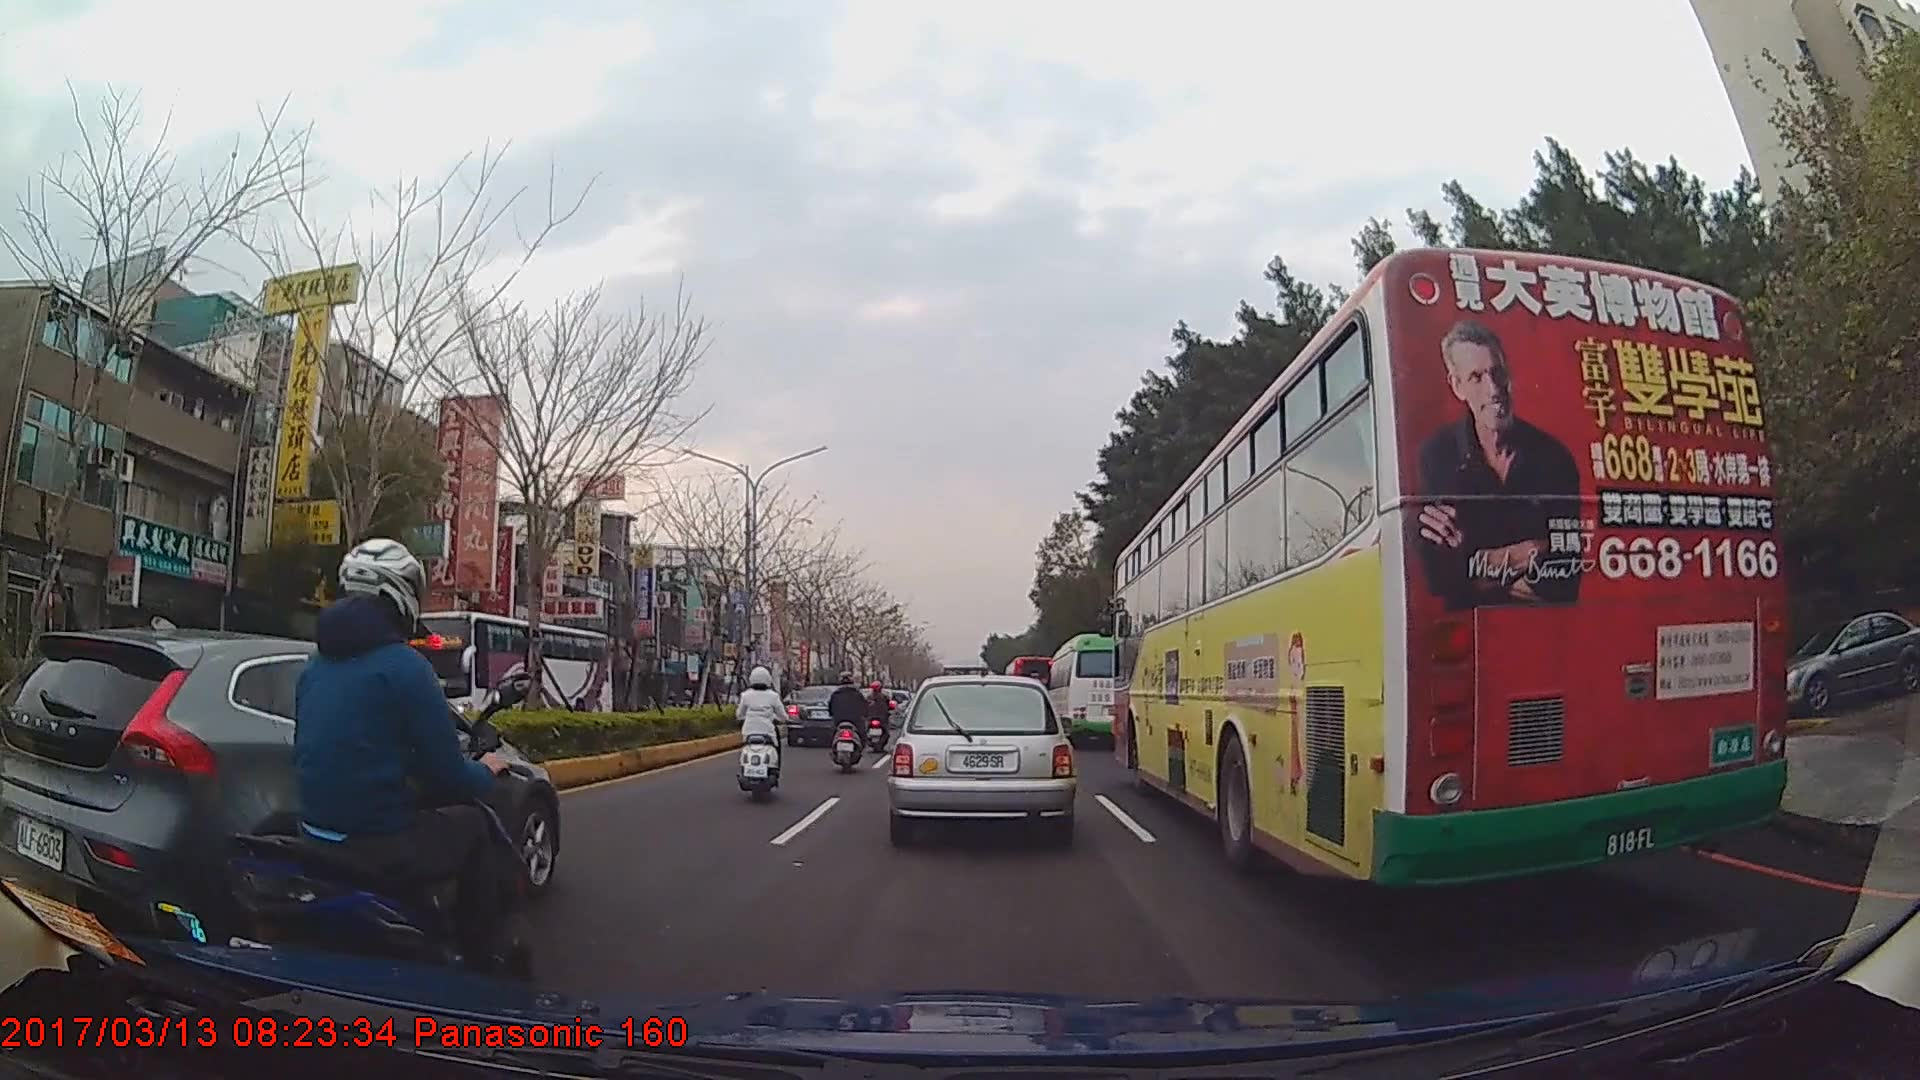rider: (207, 533, 529, 1024), (730, 662, 789, 800), (825, 673, 873, 763), (864, 679, 892, 748)
vehicle: (1107, 243, 1789, 893), (3, 626, 571, 967), (891, 674, 1072, 841), (405, 609, 613, 754), (1762, 606, 1920, 713), (1044, 630, 1144, 748), (787, 682, 869, 748), (1000, 651, 1057, 725)
